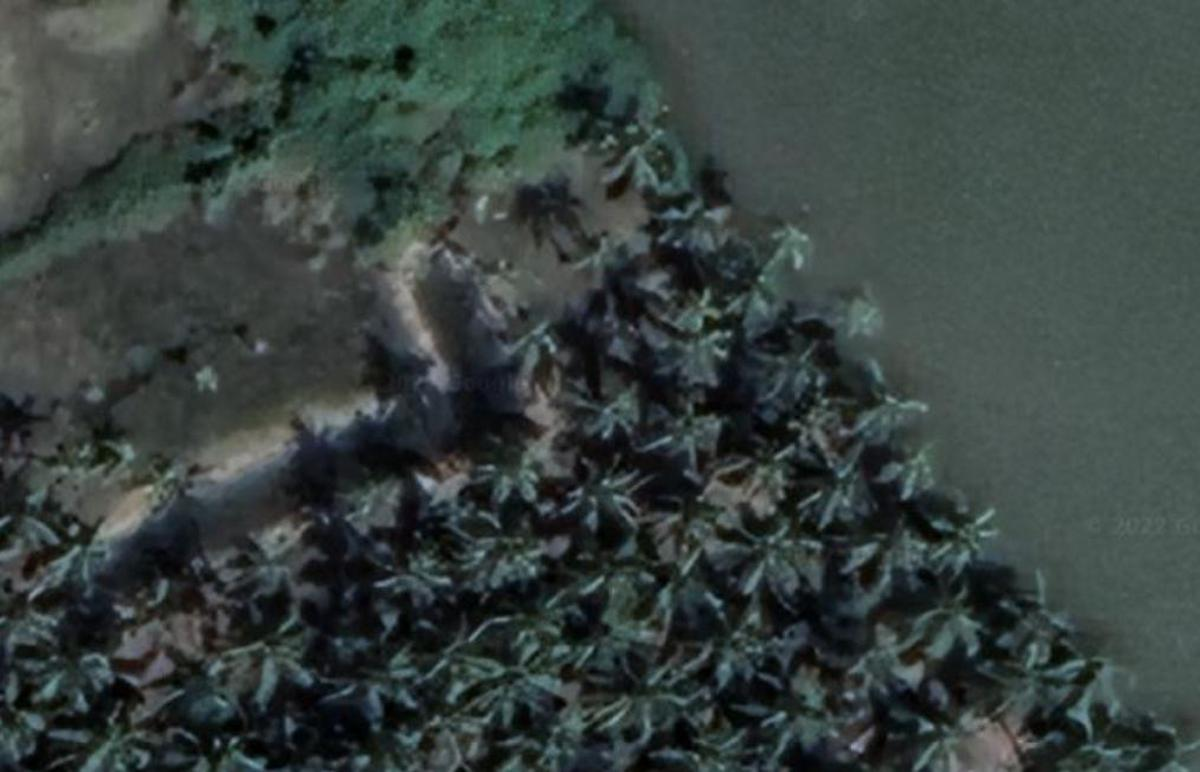coconut: (892, 558, 986, 665), (462, 404, 553, 511), (27, 503, 127, 600), (592, 641, 686, 743), (586, 98, 686, 190), (470, 627, 562, 724), (27, 619, 126, 709), (740, 669, 834, 763), (487, 297, 580, 390), (838, 614, 932, 706), (565, 527, 657, 619), (718, 508, 811, 598), (645, 471, 737, 560), (310, 455, 399, 546), (232, 604, 323, 692), (832, 497, 916, 592), (407, 438, 491, 533), (338, 627, 432, 711), (883, 692, 981, 772), (466, 508, 559, 592), (556, 446, 638, 541), (67, 686, 157, 772), (222, 528, 315, 611), (845, 349, 929, 440), (991, 562, 1073, 654), (743, 320, 832, 404), (686, 595, 770, 684), (651, 701, 756, 772), (789, 446, 880, 524), (375, 533, 462, 614), (157, 641, 241, 724), (422, 608, 500, 697), (978, 636, 1062, 717), (1046, 633, 1129, 714), (727, 423, 808, 505), (159, 717, 275, 772), (920, 495, 1000, 574), (567, 367, 649, 442), (497, 579, 572, 657), (516, 703, 599, 772), (649, 392, 727, 465), (718, 249, 789, 327), (779, 377, 851, 451), (664, 182, 735, 255), (559, 222, 632, 292), (876, 427, 951, 492), (659, 322, 731, 387), (656, 279, 733, 338), (1059, 705, 1124, 772), (1140, 701, 1200, 772), (86, 419, 148, 484), (764, 209, 826, 270)
